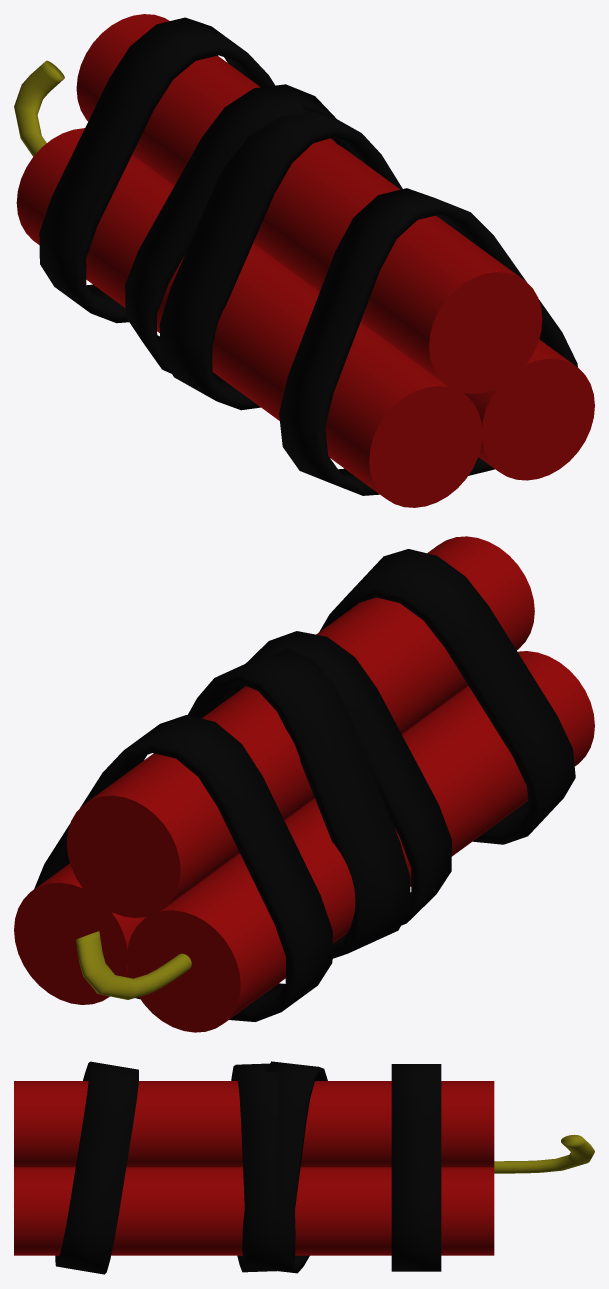
Rendered from DynamiteTest.fbx.
3 renders of one model, top to bottom at view 1: azimuth 30°, elevation 25°; view 2: azimuth 150°, elevation 25°; view 3: azimuth 270°, elevation 25°, orthographic. The views are drawn at different scales.
Visible parts, largest first — view 1: Dynamite.003; view 2: Dynamite.003; view 3: Dynamite.003.
Boxes of the visible parts, x1,y1,x2,y2 form: Dynamite.003: (14,14,594,507); Dynamite.003: (14,536,594,1032); Dynamite.003: (14,1061,594,1274).
Size of the model in its own units: 184 by 174 by 504.
